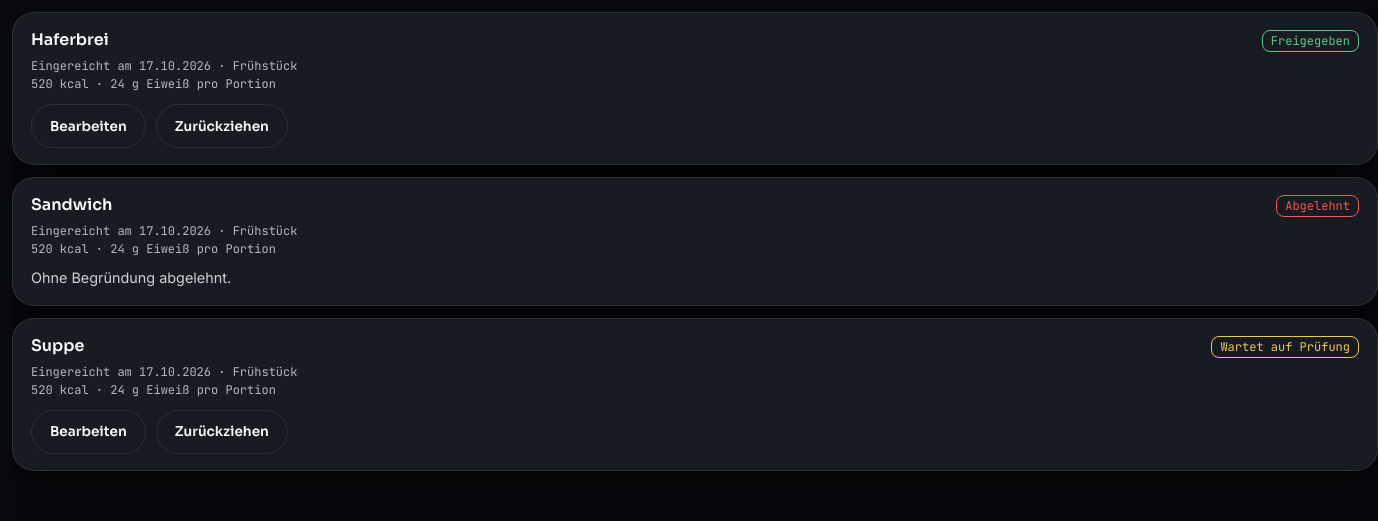
Test: MySubmissionsView — Verifizierte Autoren (Fahrplan 29 V3) › ein Rezept in einem Essensplan: verständliche Meldung statt 'inzwischen entschieden'
This screenshot has width=1378, height=521.
Click the button with aria-label "Haferbrei zurückziehen" at (222, 126), box x1=156 y1=104 x2=288 y2=148
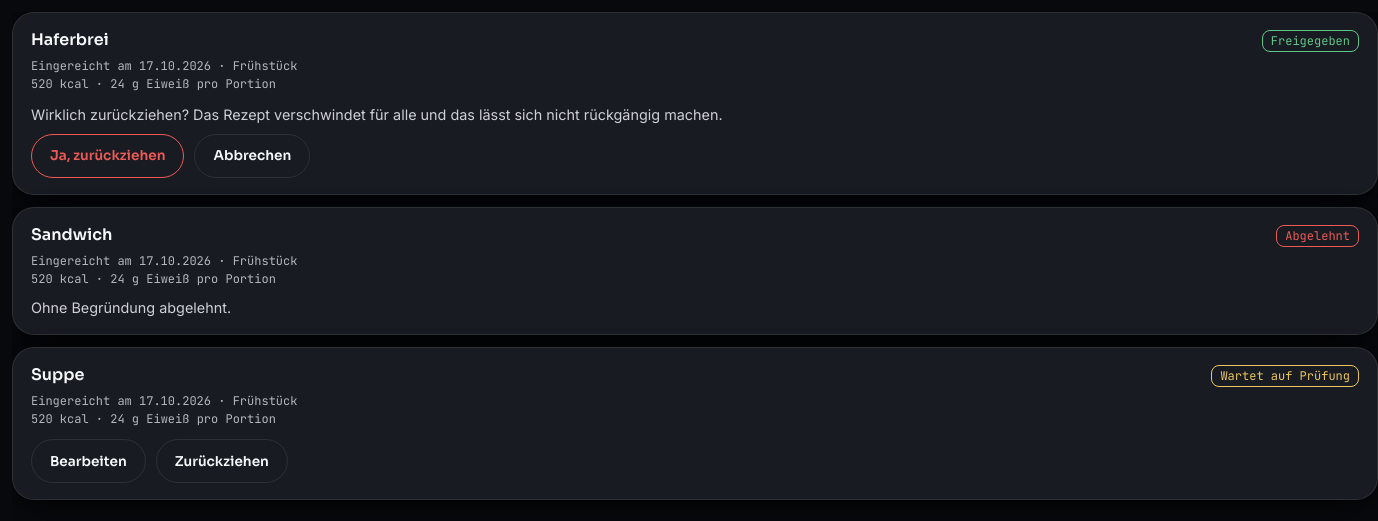
Click the button "Ja, zurückziehen" at (108, 156), box x1=31 y1=134 x2=184 y2=178
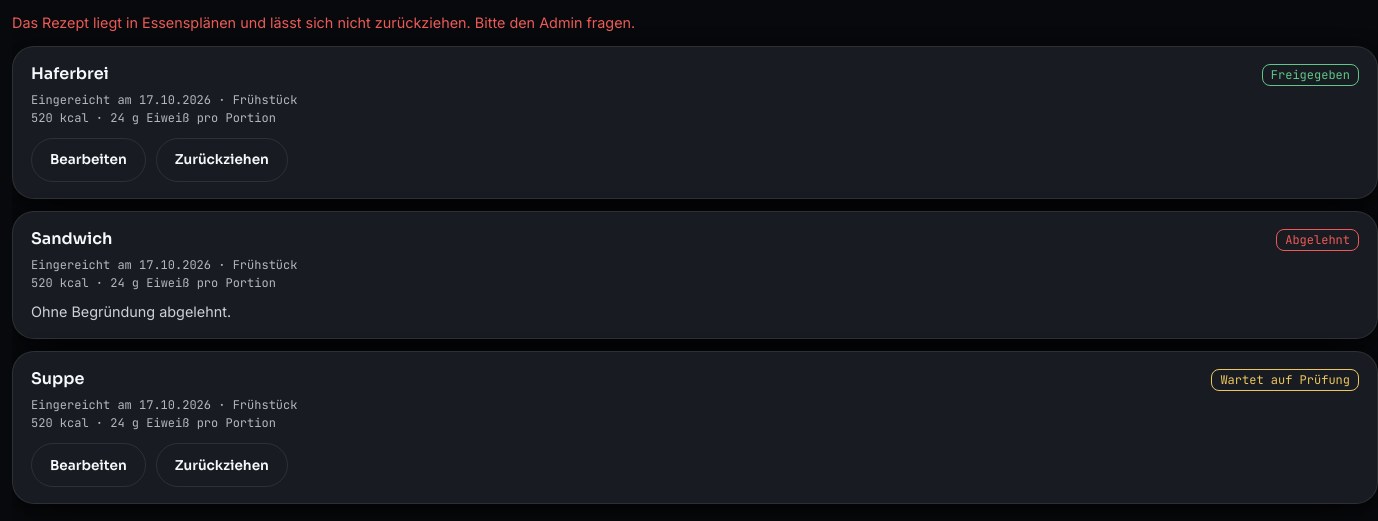
Expected: the text "liegt in Essensplänen und lässt sich nicht zurückziehen. Bitte den Admin fragen" is shown, x1=12 y1=14 x2=635 y2=31
